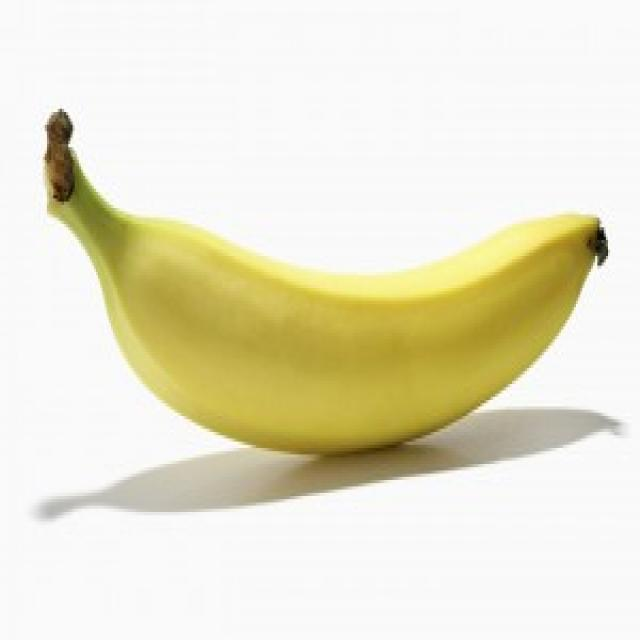Banana: (49, 118, 606, 454)
